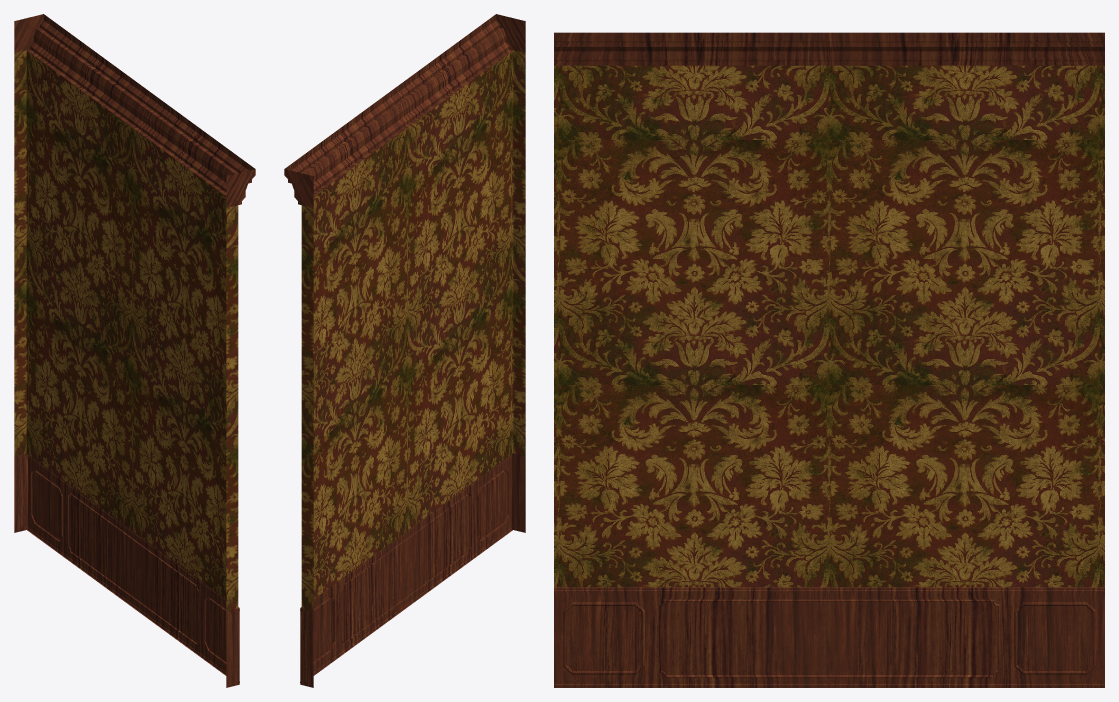
The model's file is Dinding.fbx.
3 renders of one model, left to right at view 1: azimuth 30°, elevation 25°; view 2: azimuth 150°, elevation 25°; view 3: azimuth 270°, elevation 25°, orthographic. The views are drawn at different scales.
Parts seen in each view (by area): view 1: Dinding; view 2: Dinding; view 3: Dinding.
Boxes of the visible parts, x1,y1,x2,y2 form: Dinding: (14, 14, 255, 687); Dinding: (284, 14, 525, 687); Dinding: (554, 32, 1104, 687).
Size of the model in its own units: 24 by 400 by 300.
Materials: 2 (2 with a texture image).
